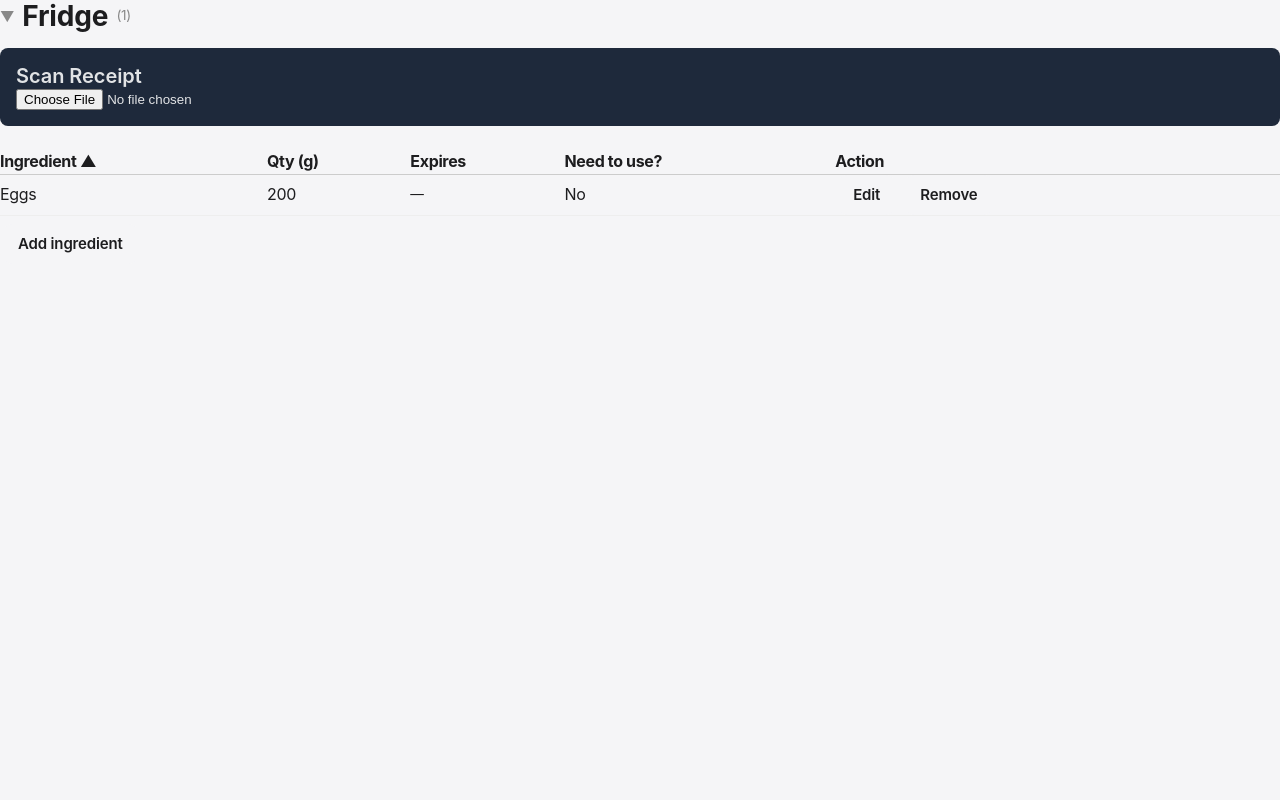
Test: Fridge › shows error notice on auto-save failure after confirmed remove
Expected: the text "Eggs" is shown, [0, 174, 267, 215]
Click the button "Remove". click: coordinates (949, 195)
box: [902, 175, 996, 215]
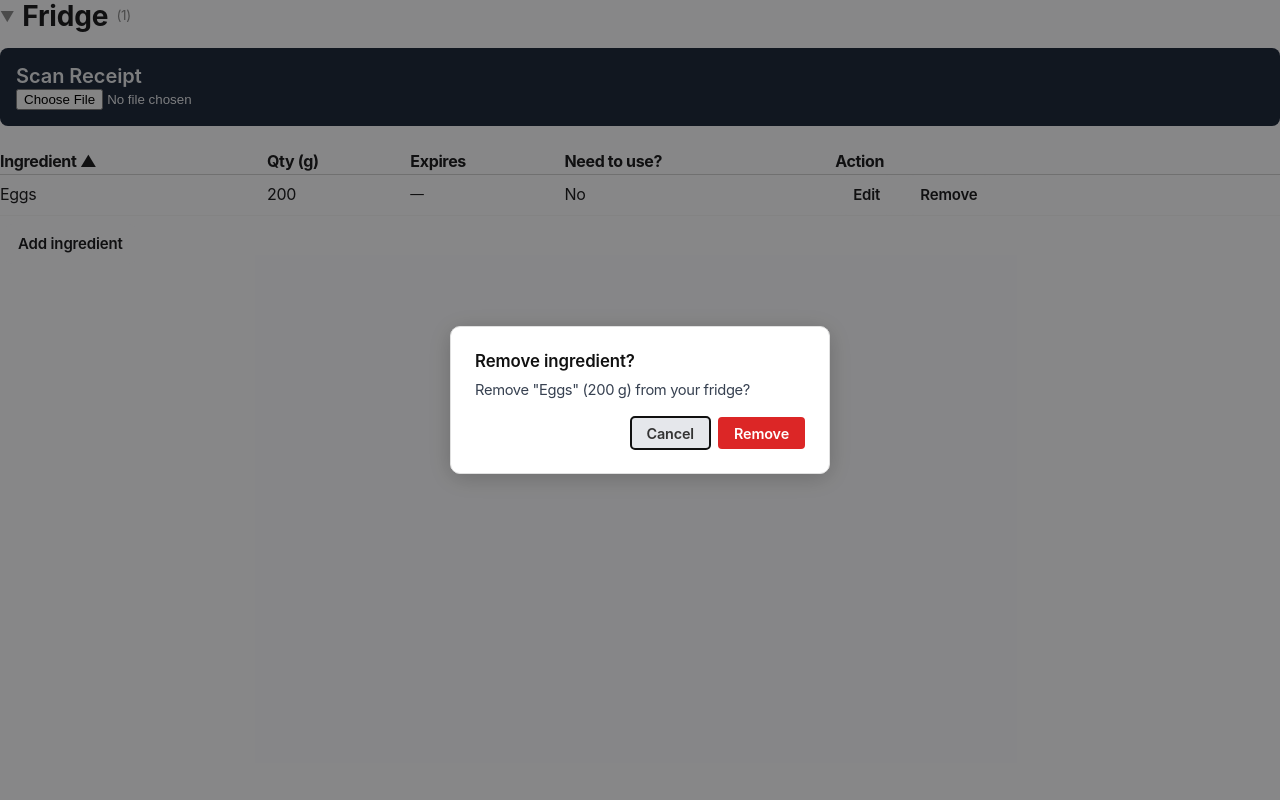
Click the button "Remove". click: coordinates (762, 433)
box: [718, 417, 805, 449]
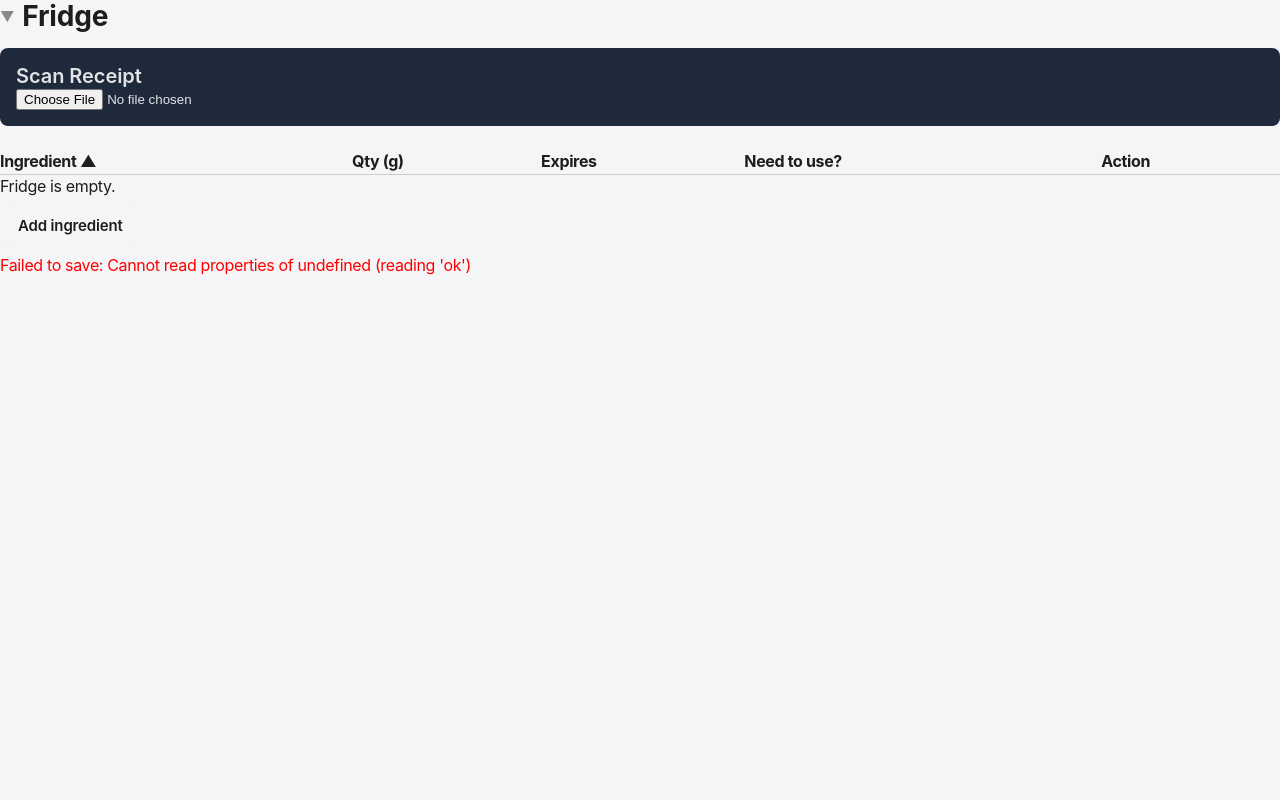
Expected: the text "Failed to save" is shown, [0, 255, 471, 275]
